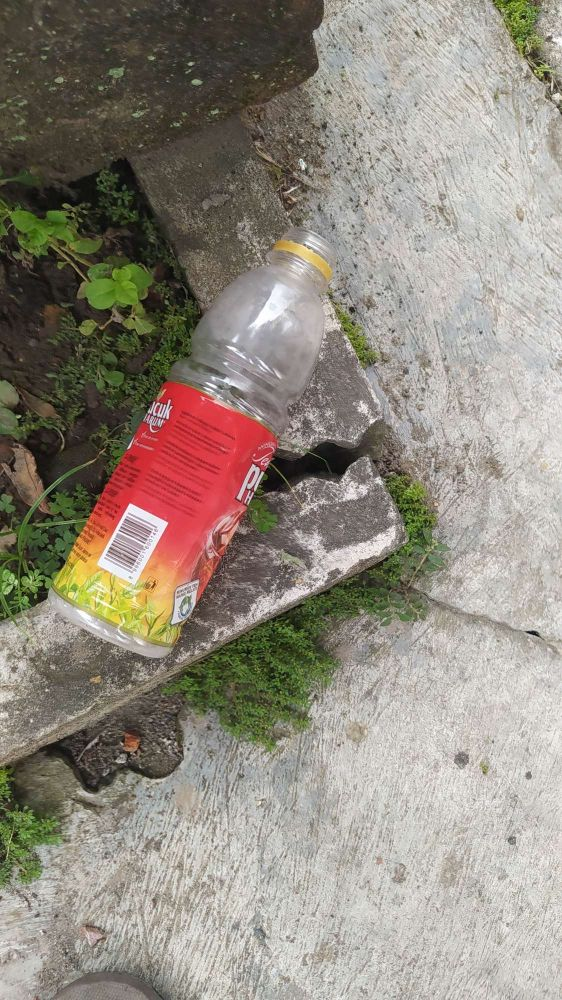botol: (94, 191, 340, 664)
